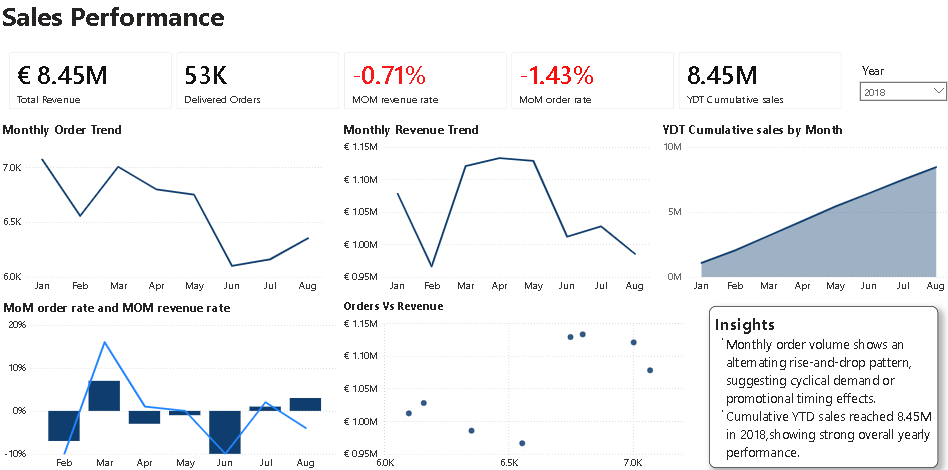

What the dashboard file says about the page in this screenshot:
{"tool":"powerbi","page":{"name":"sales performance","canvas":[1600,800],"ordinal":2},"visuals":[{"type":"textbox","box":[10.5,0,1307,78.9],"z":0},{"type":"cardVisual","fields":{"Data":["FactOrderItems.Total Revenue","FactOrderItems.Delivered Orders","sales_monthly_performance_view.MOM revenue rate","sales_monthly_performance_view.MoM order rate","sales_monthly_performance_view.YDT Cumulative sales"]},"box":[10.5,78.9,1424.6,129.8],"z":1000},{"type":"lineChart","title":"Monthly Order Trend","fields":{"Y":["FactOrderItems.Delivered Orders"],"Category":["DimDate.Month"]},"box":[10.9,209.1,543.6,296.4],"z":2000},{"type":"lineChart","title":"Monthly Revenue Trend","fields":{"Category":["DimDate.Month"],"Y":["FactOrderItems.Total Revenue"]},"box":[580.7,208.8,517.5,296.5],"z":3000},{"type":"slicer","fields":{"Values":["DimDate.Year"]},"box":[1434.5,105.5,165.5,103.6],"z":4000},{"type":"lineClusteredColumnComboChart","title":"MoM order rate and MOM revenue rate ","fields":{"Y":["sales_monthly_performance_view.MoM order rate"],"Y2":["sales_monthly_performance_view.MOM revenue rate"],"Category":["DimDate.Month"]},"box":[14,505.3,566.7,294.7],"z":5000},{"type":"areaChart","fields":{"Category":["DimDate.Month"],"Y":["sales_monthly_performance_view.YDT Cumulative sales"]},"box":[1112.3,208.8,487.7,296.5],"z":6000},{"type":"scatterChart","title":"Orders Vs Revenue ","fields":{"X":["FactOrderItems.Delivered Orders"],"Y":["FactOrderItems.Total Revenue"],"Category":["DimDate.Month"],"Series":["DimDate.Year"]},"box":[580.7,505.3,589.5,294.7],"z":7000},{"type":"textbox","box":[1193.3,518.3,381.7,270],"z":8000}]}

Visuals, with their boxes in screenshot pixels (x1, y1, x2, y2), scaled from the page's 1600x800 canvas onto the 948x470 screenshot:
textbox: 6, 0, 781, 46
cardVisual - FactOrderItems.Total Revenue x FactOrderItems.Delivered Orders: 6, 46, 850, 123
"Monthly Order Trend" lineChart: 6, 123, 329, 297
"Monthly Revenue Trend" lineChart: 344, 123, 651, 297
slicer - DimDate.Year: 850, 62, 947, 123
"MoM order rate and MOM revenue rate " lineClusteredColumnComboChart: 8, 297, 344, 469
areaChart - DimDate.Month x sales_monthly_performance_view.YDT Cumulative sales: 659, 123, 947, 297
"Orders Vs Revenue " scatterChart: 344, 297, 693, 469
textbox: 707, 305, 933, 463
